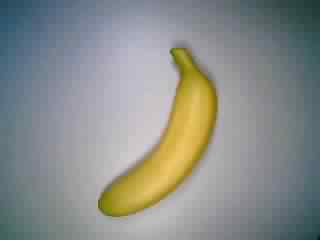banana: (92, 44, 223, 223)
